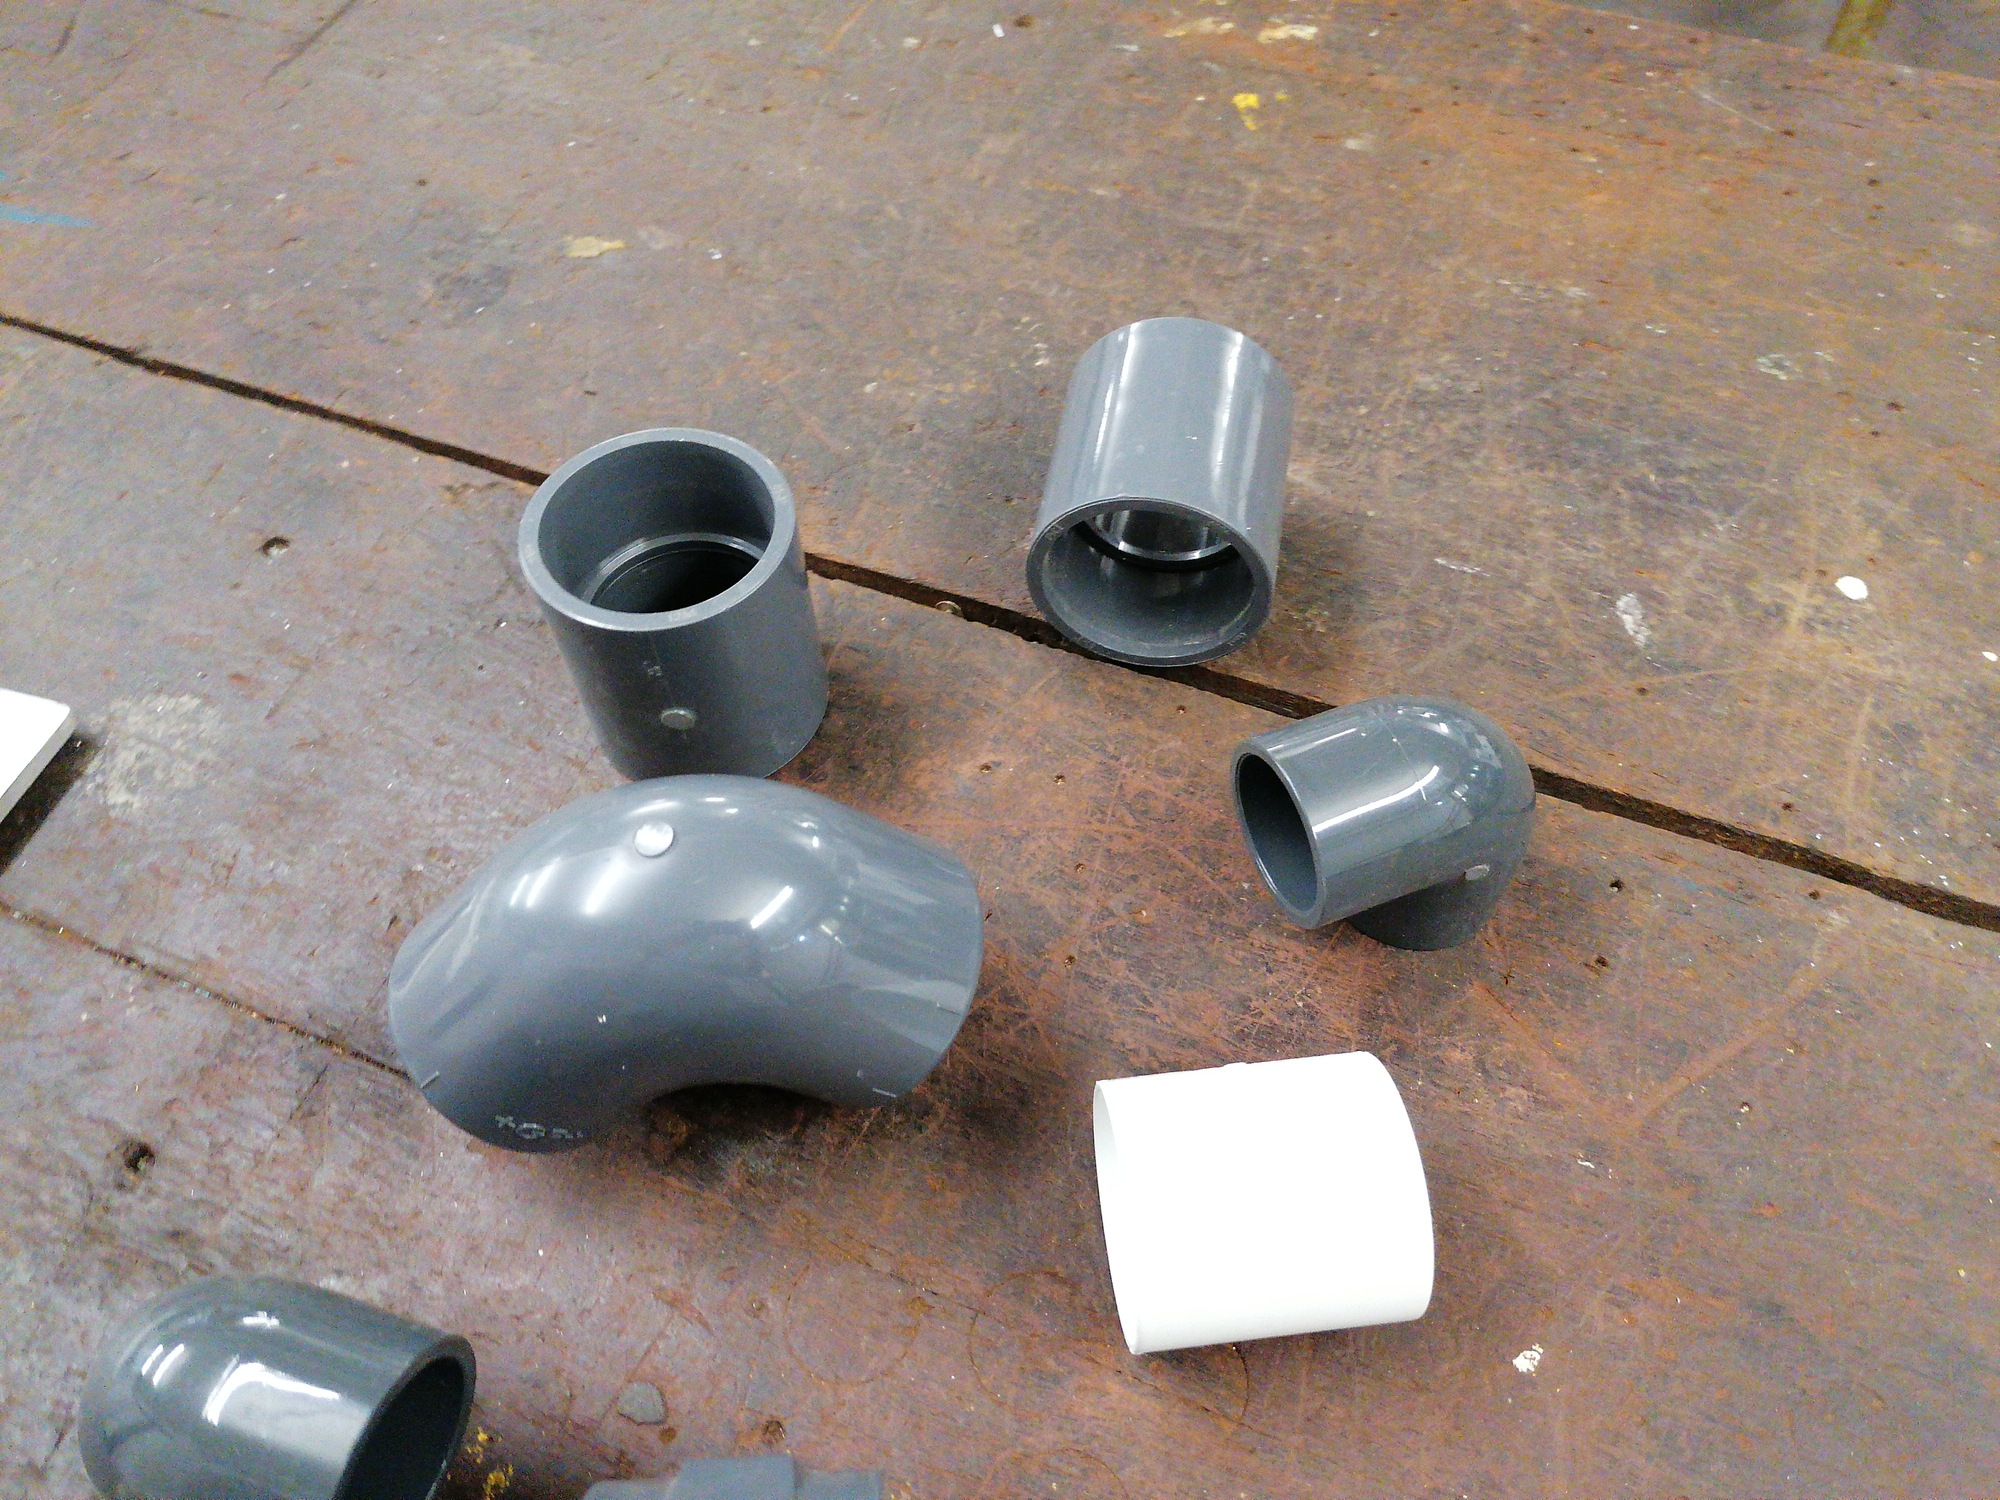nut: (581, 1450, 879, 1498)
pipe: (383, 774, 992, 1168), (509, 425, 831, 783), (1080, 1041, 1435, 1366), (60, 1268, 474, 1498), (1024, 318, 1291, 670), (1227, 689, 1532, 944)
